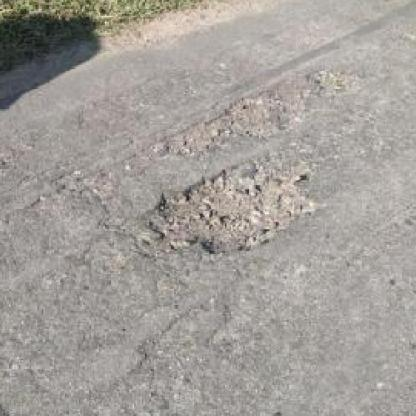pothole: (131, 154, 323, 257), (156, 91, 299, 159), (305, 65, 363, 99)
